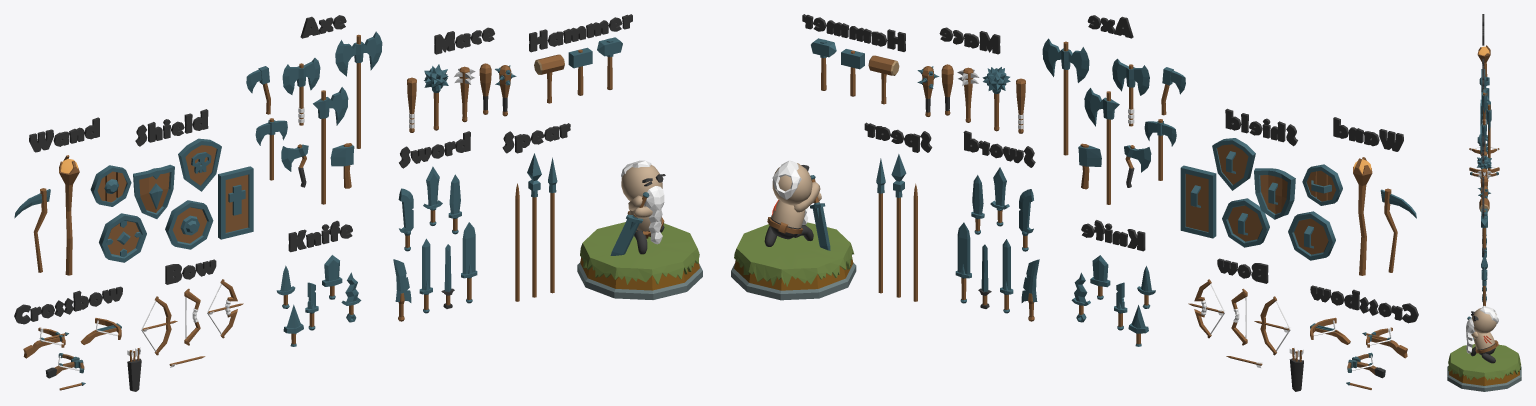
File: WeaponFantasy.fbx
3 renders of one model, left to right at view 1: azimuth 30°, elevation 25°; view 2: azimuth 150°, elevation 25°; view 3: azimuth 270°, elevation 25°, orthographic. The views are drawn at different scales.
Parts seen in each view (by area): view 1: Ground02, Char01, Ground01, Plane024, Shield03, Shield01, Shield02, Object094, Weapon46, TextPlus007, TextPlus004, Object092 (+25 smaller); view 2: Ground02, Char01, Plane024, Ground01, Shield01, Shield03, Shield02, Weapon46, Object094, TextPlus004, TextPlus007, Object092 (+23 smaller); view 3: Ground02, Char01, Ground01, Weapon46, Weapon_Wand01, Box11105, Weapon052, Weapon45, TextPlus004, Cylinder1329, Object092, Weapon41 (+10 smaller).
Part boxes in pixels (x1=…): Ground02: x1=580, y1=222, x2=699, y2=284; Char01: x1=621, y1=160, x2=665, y2=254; Ground01: x1=577, y1=258, x2=702, y2=299; Plane024: x1=218, y1=166, x2=253, y2=239; Shield03: x1=165, y1=200, x2=213, y2=249; Shield01: x1=99, y1=213, x2=146, y2=262; Shield02: x1=133, y1=164, x2=174, y2=218; Object094: x1=178, y1=138, x2=221, y2=191; Weapon46: x1=335, y1=31, x2=382, y2=148; TextPlus007: x1=14, y1=286, x2=122, y2=324; TextPlus004: x1=529, y1=14, x2=632, y2=52; Object092: x1=90, y1=165, x2=131, y2=206; Ground02: x1=734, y1=222, x2=853, y2=286; Char01: x1=764, y1=160, x2=821, y2=246; Plane024: x1=1180, y1=165, x2=1216, y2=238; Ground01: x1=731, y1=257, x2=856, y2=300; Shield01: x1=1288, y1=211, x2=1335, y2=260; Shield03: x1=1222, y1=198, x2=1269, y2=247; Shield02: x1=1254, y1=168, x2=1295, y2=219; Weapon46: x1=1042, y1=38, x2=1089, y2=155; Object094: x1=1212, y1=138, x2=1255, y2=190; TextPlus004: x1=802, y1=14, x2=905, y2=51; TextPlus007: x1=1310, y1=285, x2=1418, y2=323; Object092: x1=1302, y1=164, x2=1342, y2=205; Ground02: x1=1448, y1=344, x2=1520, y2=380; Char01: x1=1466, y1=306, x2=1498, y2=363; Ground01: x1=1447, y1=366, x2=1521, y2=391; Weapon46: x1=1486, y1=100, x2=1491, y2=174; Weapon_Wand01: x1=1477, y1=45, x2=1490, y2=76; Box11105: x1=1481, y1=216, x2=1487, y2=248; Weapon052: x1=1481, y1=264, x2=1487, y2=305; Weapon45: x1=1482, y1=87, x2=1486, y2=123; TextPlus004: x1=1482, y1=177, x2=1484, y2=217; Cylinder1329: x1=1479, y1=197, x2=1489, y2=211; Object092: x1=1479, y1=69, x2=1489, y2=91; Weapon41: x1=1482, y1=119, x2=1486, y2=151.
Size of the model in its own units: 1224 by 580 by 187.
